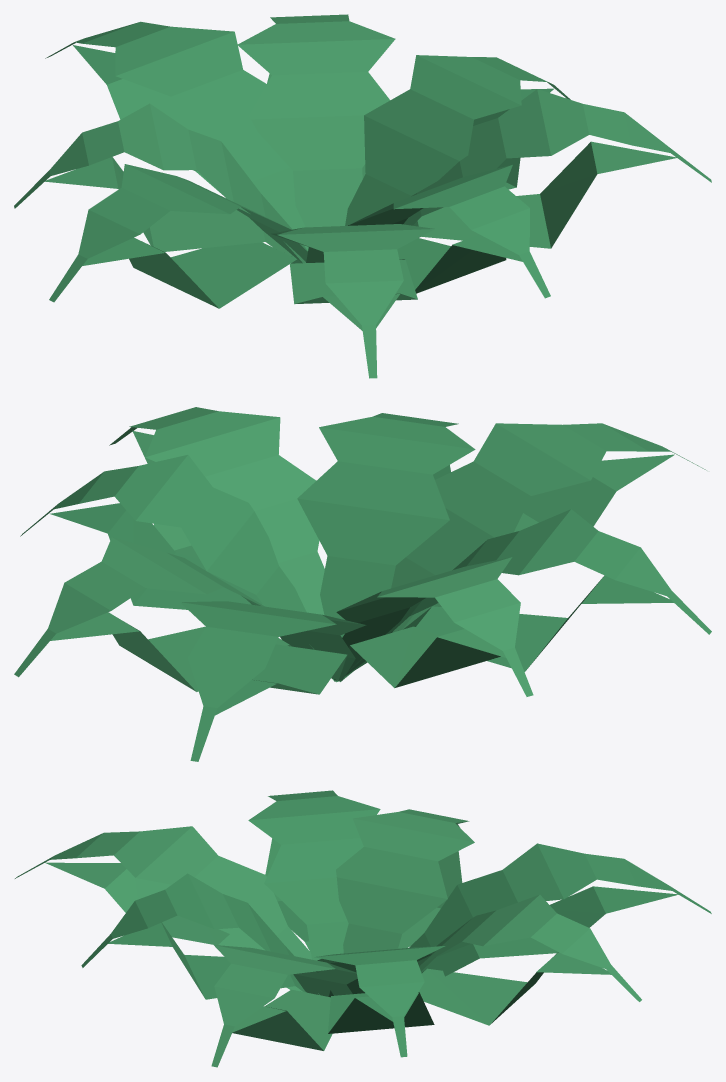
Rendered from fern.glb.
3 renders of one model, top to bottom at view 1: azimuth 30°, elevation 25°; view 2: azimuth 150°, elevation 25°; view 3: azimuth 270°, elevation 25°, orthographic. The views are drawn at different scales.
Parts seen in each view (by area): view 1: body_nh, body__far; view 2: body_nh, body__far; view 3: body_nh, body__far.
Boxes of the visible parts, box(x1,y1,x2,y2) form: body_nh: box(14, 14, 711, 378); body__far: box(45, 45, 676, 330); body_nh: box(14, 407, 711, 761); body__far: box(50, 430, 674, 715); body_nh: box(15, 790, 711, 1067); body__far: box(45, 838, 678, 1050).
Size of the model in its own units: 1.78 by 0.4502 by 2.04.
